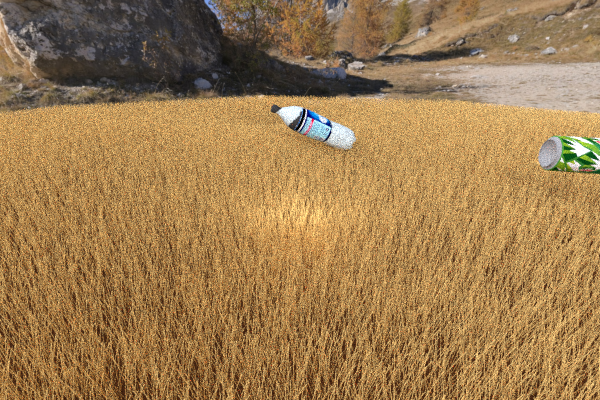bottle: (270, 104, 356, 150)
can: (538, 135, 600, 175)
